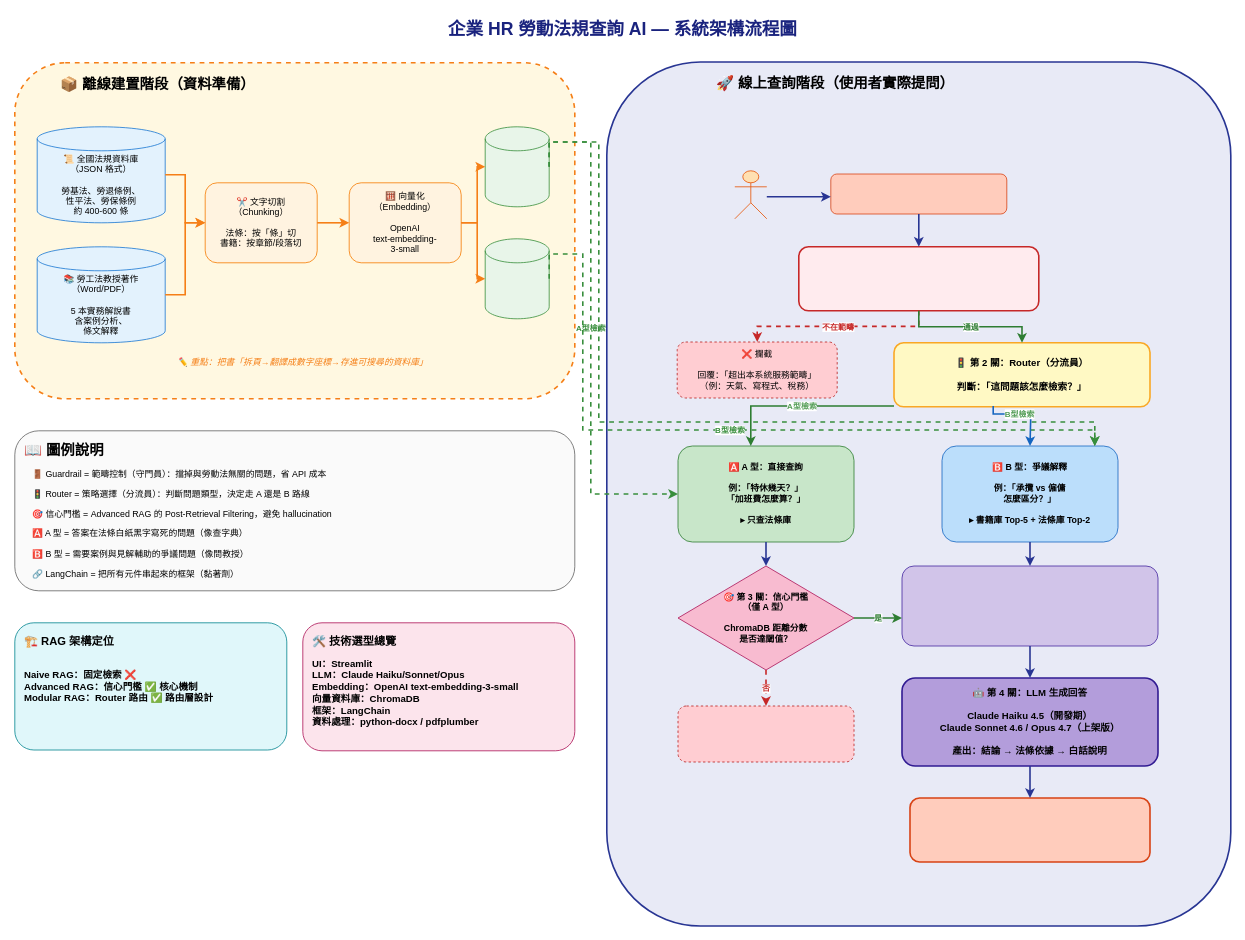
Some shapes in this 1245 by 940 pixel diagram are drawn without their labels. Here are the shapes that lost their labels. From the top down, the centre of each, then its label:
At point (516, 166): "🗄️ 法條庫 （ChromaDB Collection）".
At point (750, 194): "👤 HR 使用者 （自然語言提問）".
At point (918, 193): "🖥️ Streamlit 介面 使用者輸入問題".
At point (516, 278): "🗄️ 書籍庫 （ChromaDB Collection）".
At point (918, 278): "🚪 第 1 關：Guardrail（守門員） 判斷：「這問題該不該回答？」 範疇 = 台灣勞工法".
At point (1029, 605): "📋 Context 組裝 （LangChain 框架） 將檢索到的法條/書籍內容 ＋ System Prompt ＋ 使用者問題".
At point (765, 733): "⚠️ 信心不足 回覆：「現行法規無明確規定」 不進入 LLM 生成".
At point (1029, 829): "✅ 顯示結果 回答內容 + 來源標示 （法條條號 / 書籍章節）".
